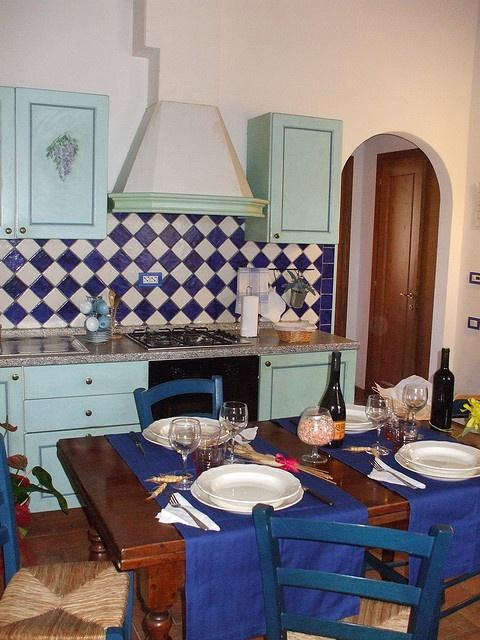Lemari: (0, 82, 110, 240), (263, 109, 343, 244)
Meja: (56, 401, 479, 590)
